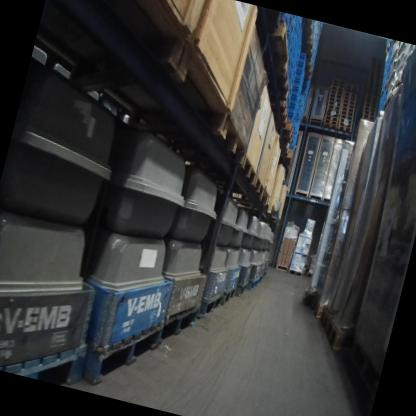pallet: (81, 304, 167, 400), (4, 321, 90, 388), (159, 297, 201, 355), (215, 115, 253, 166), (323, 318, 357, 355), (196, 284, 226, 325), (265, 97, 291, 125), (239, 155, 261, 187), (271, 118, 296, 143), (273, 69, 293, 100), (221, 282, 238, 308), (232, 277, 251, 300), (299, 18, 316, 41), (318, 307, 333, 333), (300, 39, 316, 62), (252, 175, 266, 198), (278, 148, 295, 165), (267, 9, 282, 28), (248, 273, 261, 291), (302, 60, 313, 79), (313, 302, 324, 320), (276, 141, 290, 155), (287, 268, 303, 278), (382, 95, 392, 111), (323, 118, 339, 127), (380, 81, 388, 98), (323, 121, 338, 130), (341, 102, 356, 111), (324, 115, 340, 123), (385, 39, 393, 55), (281, 163, 292, 174), (337, 125, 352, 133), (338, 122, 353, 130), (339, 114, 354, 122), (340, 110, 355, 118), (342, 99, 357, 107), (342, 95, 357, 103), (343, 91, 358, 99), (325, 111, 340, 119), (326, 107, 341, 115), (329, 89, 344, 97), (330, 85, 345, 93), (363, 106, 378, 114), (339, 118, 353, 126), (341, 107, 355, 115), (327, 100, 343, 107), (364, 102, 378, 110), (344, 88, 359, 95), (327, 104, 342, 111), (328, 97, 343, 104), (331, 82, 346, 89), (362, 110, 377, 117), (364, 99, 379, 106), (365, 95, 380, 102), (345, 84, 359, 91), (329, 93, 343, 100), (362, 114, 376, 121), (366, 92, 380, 99), (332, 79, 346, 85), (367, 88, 380, 94), (258, 274, 264, 285), (262, 269, 268, 280), (305, 271, 313, 279)
small_load_carrier: (282, 31, 294, 57), (278, 12, 291, 33), (286, 19, 296, 39), (285, 52, 294, 72), (288, 41, 297, 59), (285, 68, 294, 86), (292, 21, 300, 38), (290, 31, 298, 48), (294, 108, 303, 123), (288, 14, 297, 28), (288, 136, 297, 150), (290, 50, 298, 65), (292, 122, 300, 137), (298, 94, 306, 109), (288, 60, 296, 74)
